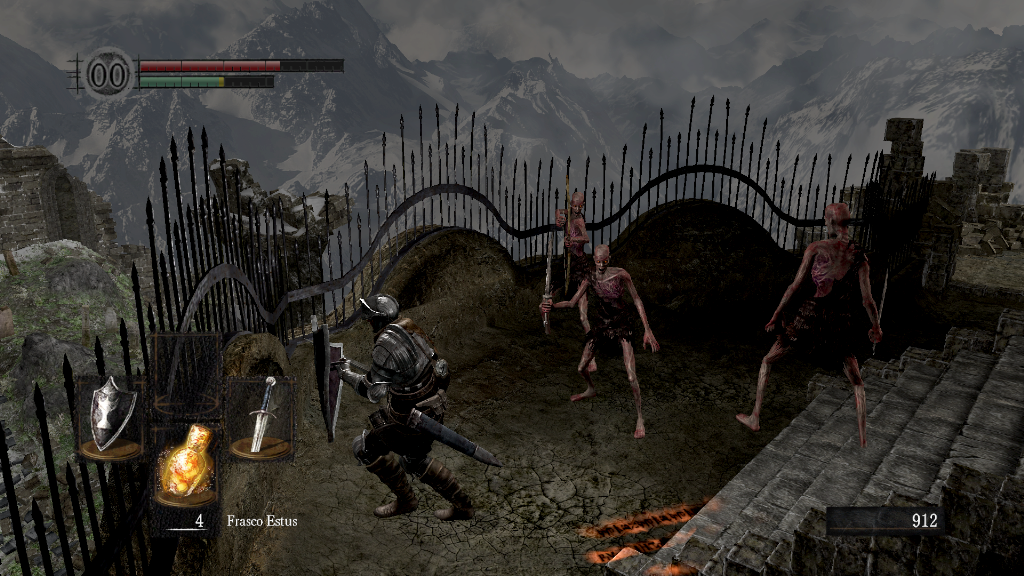health: (138, 58, 343, 71)
hollow: (731, 199, 891, 459), (538, 243, 661, 438), (550, 186, 600, 334)
humanity: (80, 45, 136, 102)
player: (304, 293, 502, 522)
souls: (825, 506, 945, 536)
stamina: (138, 74, 274, 88)
